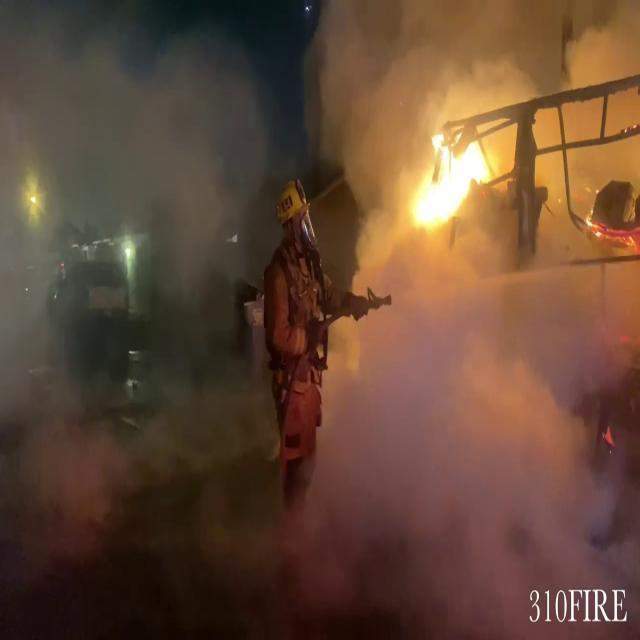Fire: (396, 121, 502, 237)
Smoke: (1, 0, 272, 489), (298, 220, 614, 608), (305, 0, 594, 148)
